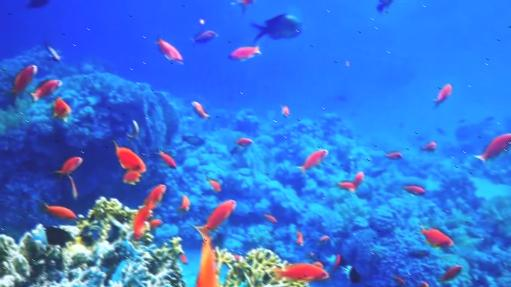Fish: (251, 13, 303, 41), (196, 200, 236, 234), (196, 227, 219, 286), (113, 140, 146, 172), (273, 263, 328, 281), (475, 134, 510, 162), (156, 32, 183, 63), (420, 222, 453, 247), (37, 200, 77, 219), (10, 65, 37, 93), (298, 149, 328, 174), (31, 79, 62, 100), (133, 205, 152, 239), (144, 184, 166, 207), (56, 157, 82, 175), (229, 45, 261, 59), (53, 97, 71, 121), (434, 83, 452, 106), (192, 30, 217, 45), (441, 265, 462, 281), (158, 151, 177, 168), (344, 171, 365, 186), (192, 101, 209, 118), (123, 171, 141, 184), (26, 0, 50, 8), (207, 178, 221, 191), (405, 185, 425, 194), (179, 194, 190, 210), (385, 151, 404, 159), (377, 0, 389, 12), (422, 141, 437, 150), (149, 219, 162, 229), (236, 137, 252, 145), (264, 213, 277, 222), (282, 105, 291, 117), (243, 0, 246, 14)
